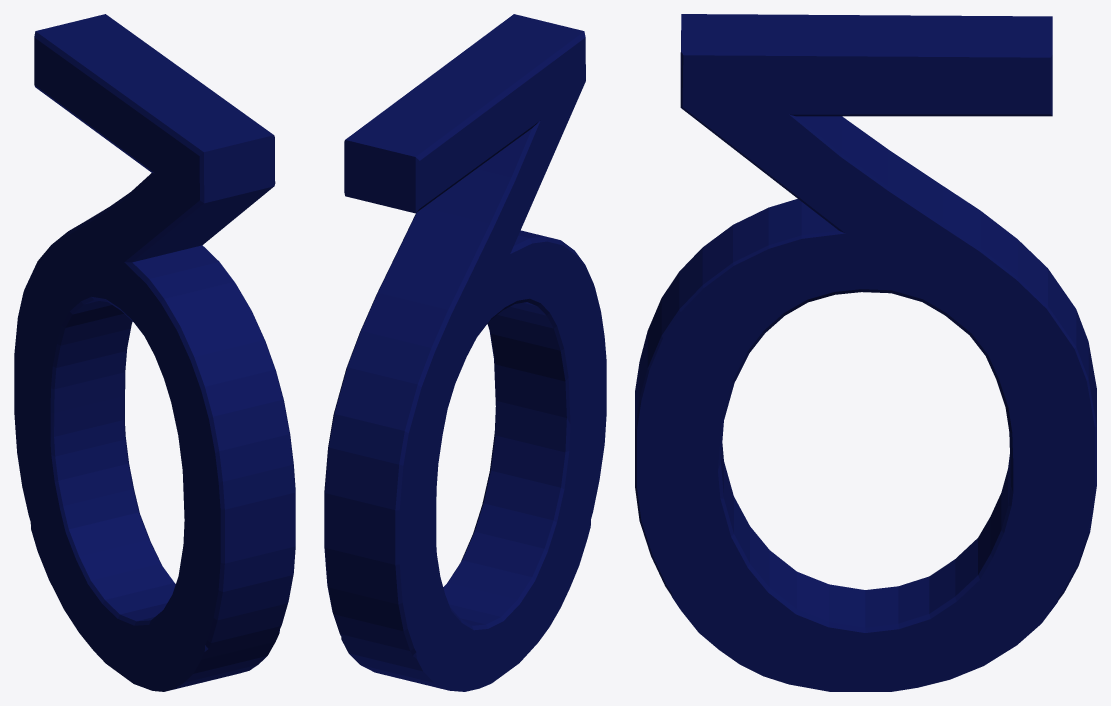
File: digitarca_model.glb
3 renders of one model, left to right at view 1: azimuth 30°, elevation 25°; view 2: azimuth 150°, elevation 25°; view 3: azimuth 270°, elevation 25°, orthographic. The views are drawn at different scales.
Visible parts, largest first — view 1: Plane; view 2: Plane; view 3: Plane.
Part boxes in pixels (x1,y1,x2,y2): Plane: (14, 14, 295, 691); Plane: (324, 14, 606, 691); Plane: (635, 14, 1096, 691).
Bounding box in the file's own units: 0.1326 × 0.9869 × 0.6459.
